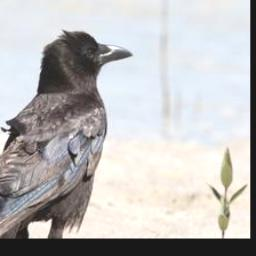Crow: (0, 28, 135, 239)
